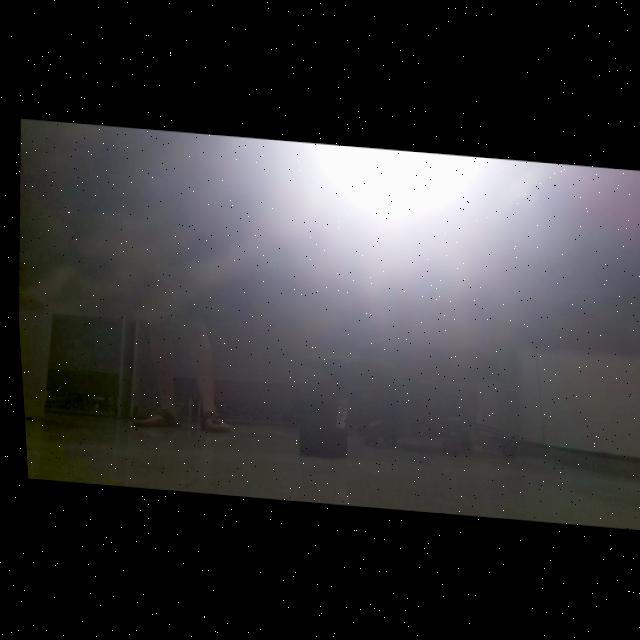F: (332, 407, 340, 424)
